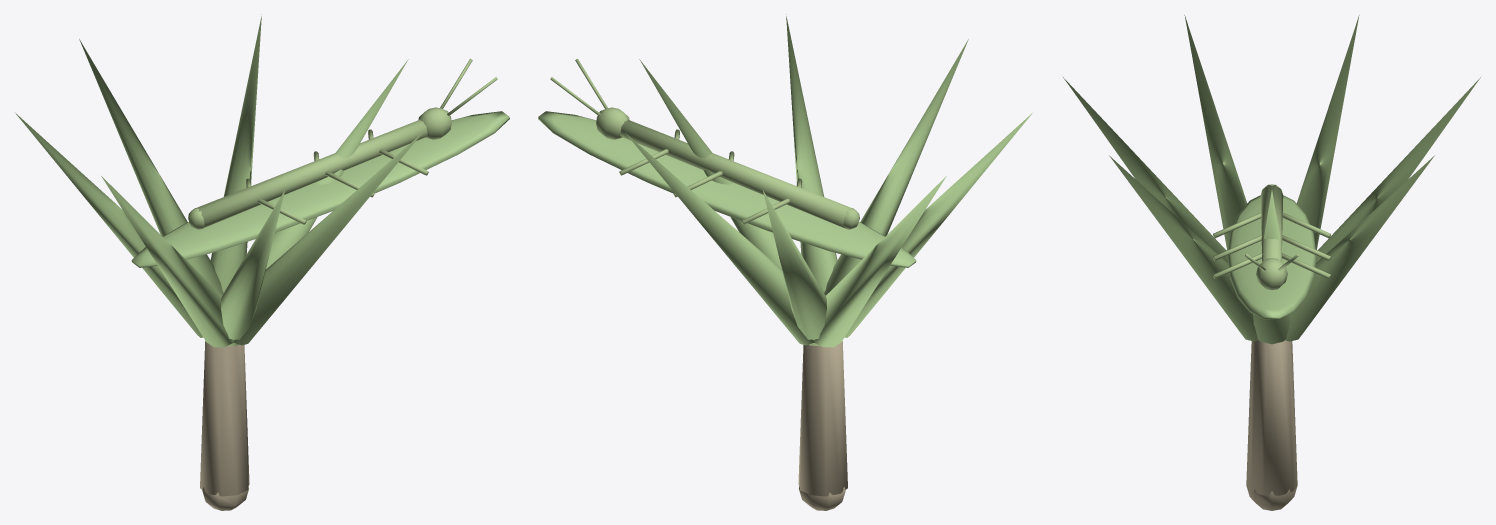
The model's file is tsuda-stick-insect.glb.
The picture shows the model from 3 angles, left to right: view 1: azimuth 30°, elevation 25°; view 2: azimuth 150°, elevation 25°; view 3: azimuth 270°, elevation 25°; orthographic projection.
Parts seen in each view (by area): view 1: cone, e.003; view 2: cone, e.003; view 3: cone, e.003.
Boxes of the visible parts, x1,y1,x2,y2 form: cone: (15,14,509,510); e.003: (188,58,497,229); cone: (538,14,1032,510); e.003: (550,58,859,229); cone: (1063,15,1480,510); e.003: (1213,184,1330,289).
Bounding box in the file's own units: 1.64 × 1.42 × 1.31.
